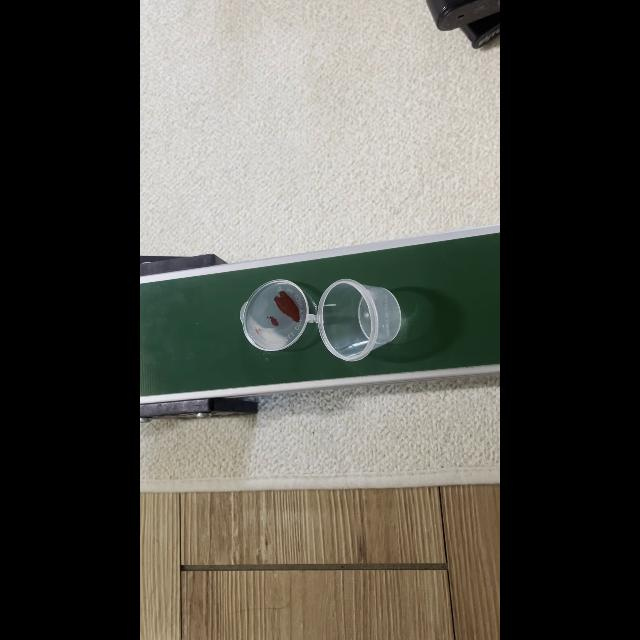dirty: (243, 277, 402, 361)
